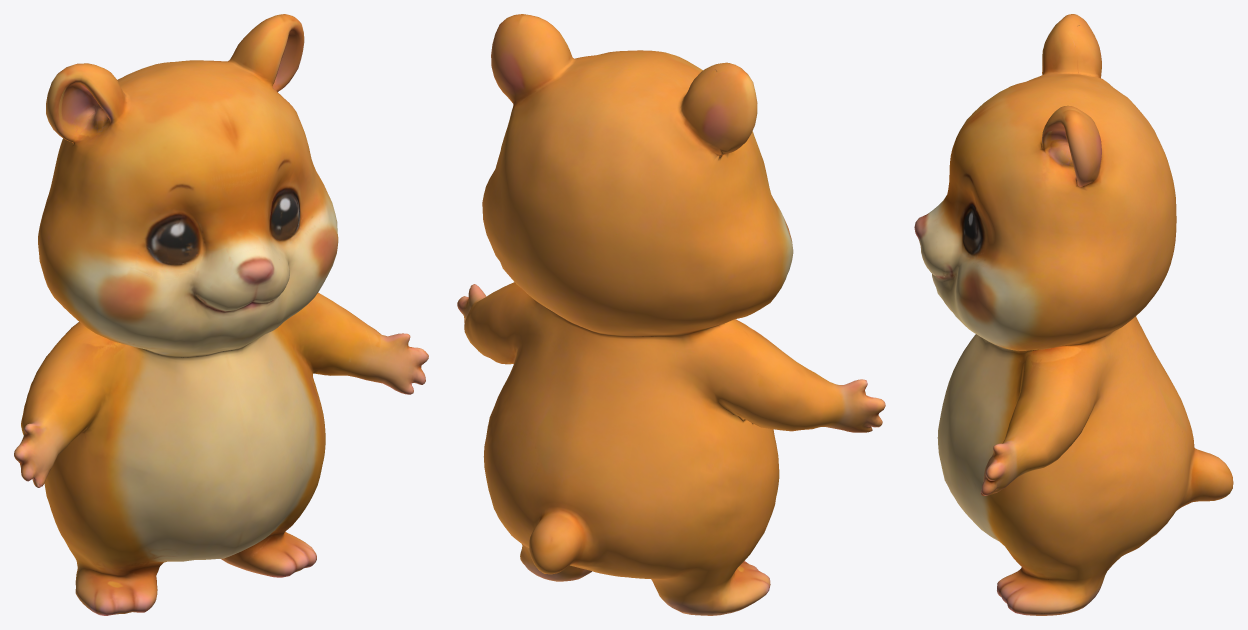
The model's file is con_ham_to.glb.
3 views of the same model, side by side, from view 1: azimuth 30°, elevation 25°; view 2: azimuth 150°, elevation 25°; view 3: azimuth 270°, elevation 25° (orthographic). The views are drawn at different scales.
Parts seen in each view (by area): view 1: Mesh_0; view 2: Mesh_0; view 3: Mesh_0.
Boxes of the visible parts, <box> form: Mesh_0: <box>14,14,428,615</box>; Mesh_0: <box>457,14,885,615</box>; Mesh_0: <box>914,14,1233,615</box>.
Bounding box in the file's own units: 1.61 × 1.99 × 1.14.
Materials: 1 (1 with a texture image).
